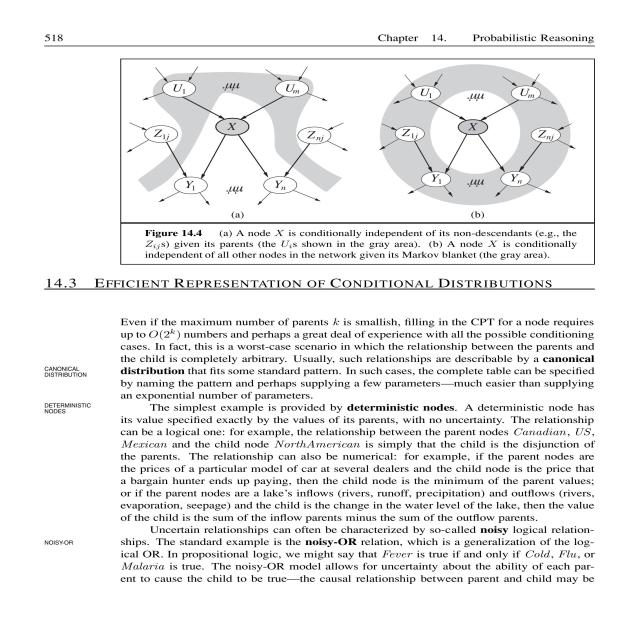diagram: (98, 49, 640, 270)
